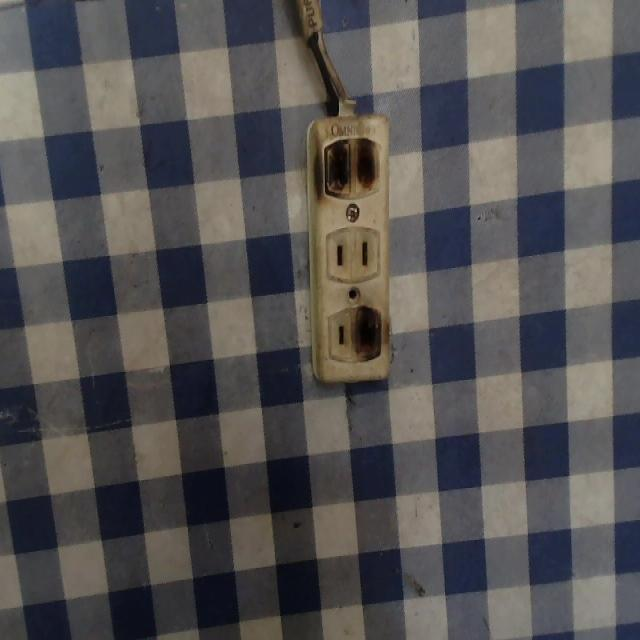-: (317, 132, 383, 201), (347, 302, 380, 374)
